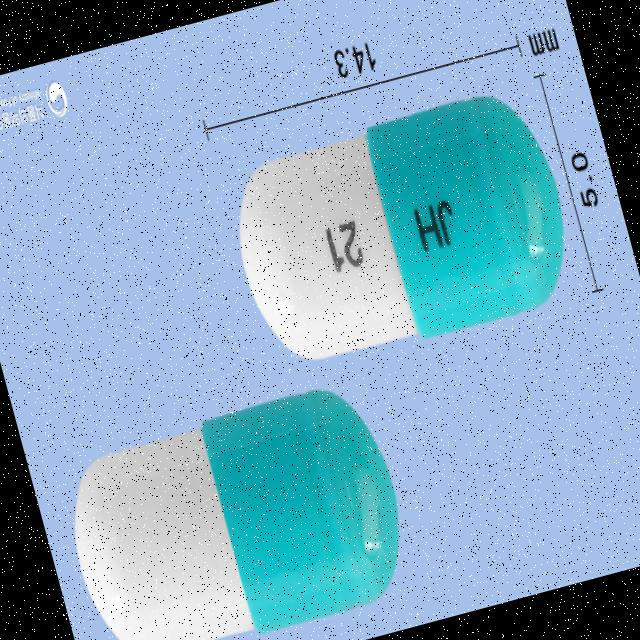Flunazole Cap: (215, 84, 587, 381), (50, 372, 422, 640)
